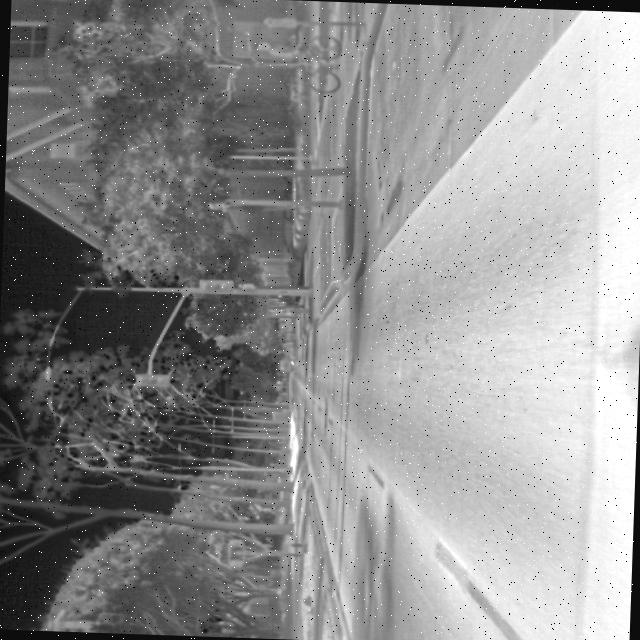Pedestrian: (255, 36, 342, 63)
